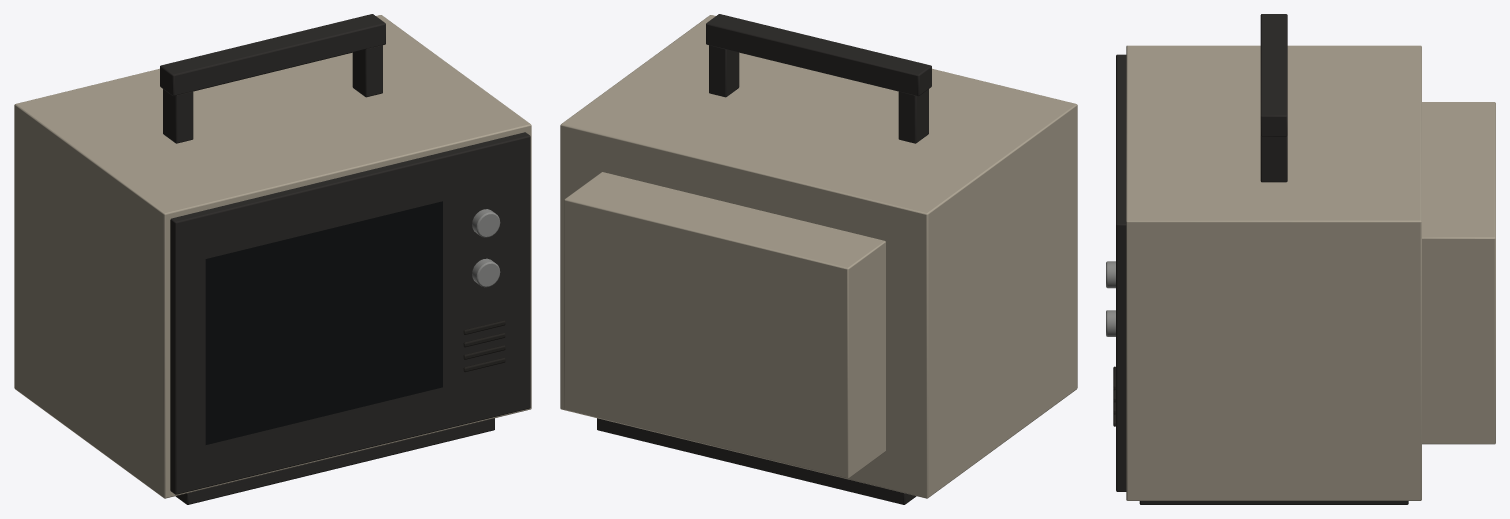
Rendered from SM_F_TV_Portable.fbx.
The picture shows the model from 3 angles, left to right: view 1: azimuth 30°, elevation 25°; view 2: azimuth 150°, elevation 25°; view 3: azimuth 270°, elevation 25°; orthographic projection.
Parts seen in each view (by area): view 1: SM_F_TV_Portable__Body, SM_F_TV_Portable__Screen; view 2: SM_F_TV_Portable__Body; view 3: SM_F_TV_Portable__Body.
Part boxes in pixels (x1=…): SM_F_TV_Portable__Body: x1=14, y1=14, x2=531, y2=504; SM_F_TV_Portable__Screen: x1=205, y1=201, x2=442, y2=444; SM_F_TV_Portable__Body: x1=560, y1=14, x2=1077, y2=504; SM_F_TV_Portable__Body: x1=1106, y1=14, x2=1495, y2=504.
Size of the model in its own units: 0.62 by 0.6025 by 0.58.
